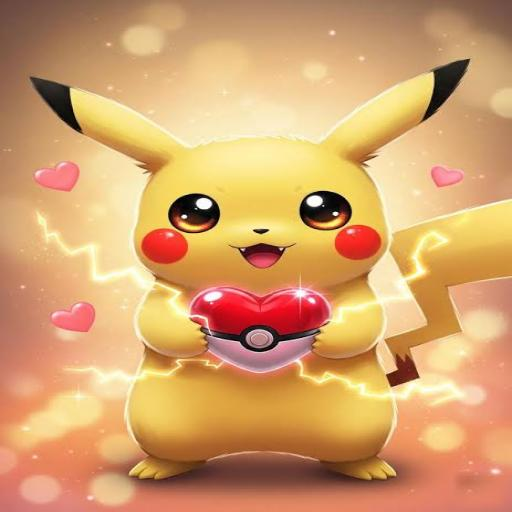Pikachu: (27, 57, 512, 480)
